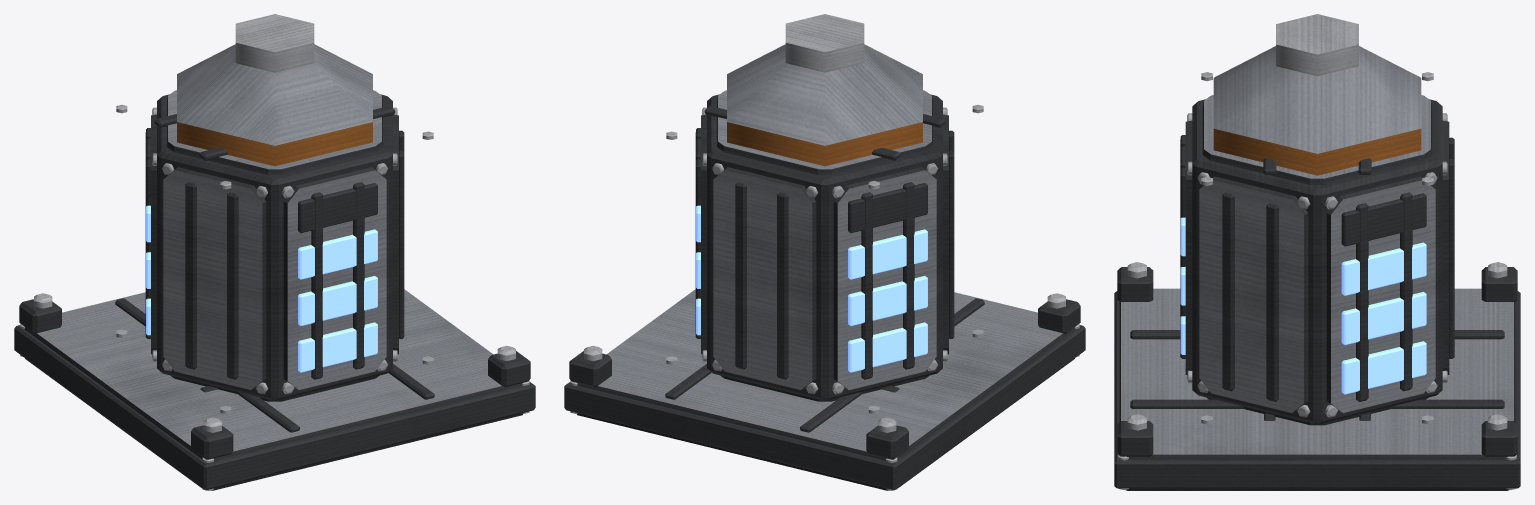
Rendered from R4X_ChargeCapacity.glb.
3 views of the same model, side by side, from view 1: azimuth 30°, elevation 25°; view 2: azimuth 150°, elevation 25°; view 3: azimuth 270°, elevation 25° (orthographic). The views are drawn at different scales.
Visible parts, largest first — view 1: R4X_ChargeCapacity_Body; view 2: R4X_ChargeCapacity_Body; view 3: R4X_ChargeCapacity_Body.
Part boxes in pixels (x1,y1,x2,y2): R4X_ChargeCapacity_Body: (14, 14, 535, 490); R4X_ChargeCapacity_Body: (564, 14, 1085, 490); R4X_ChargeCapacity_Body: (1114, 14, 1520, 490).
Bounding box in the file's own units: 0.508 × 0.515 × 0.508.
5 materials, 4 textured.
